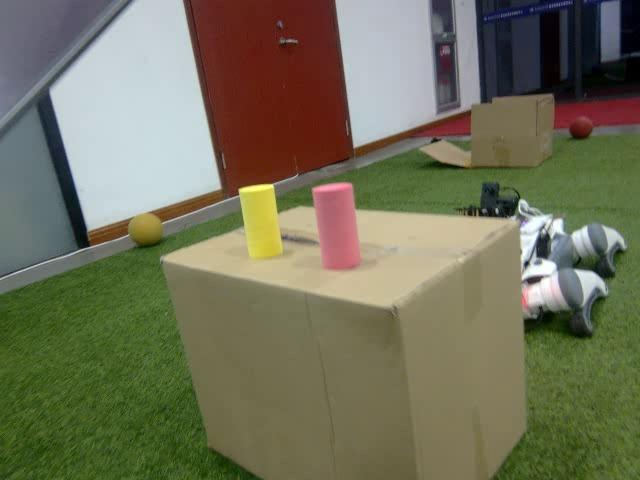red_ball: (568, 115, 594, 141)
red_cylinder: (311, 181, 365, 271)
yellow_ball: (126, 213, 164, 246)
yellow_cylinder: (236, 178, 286, 260)
